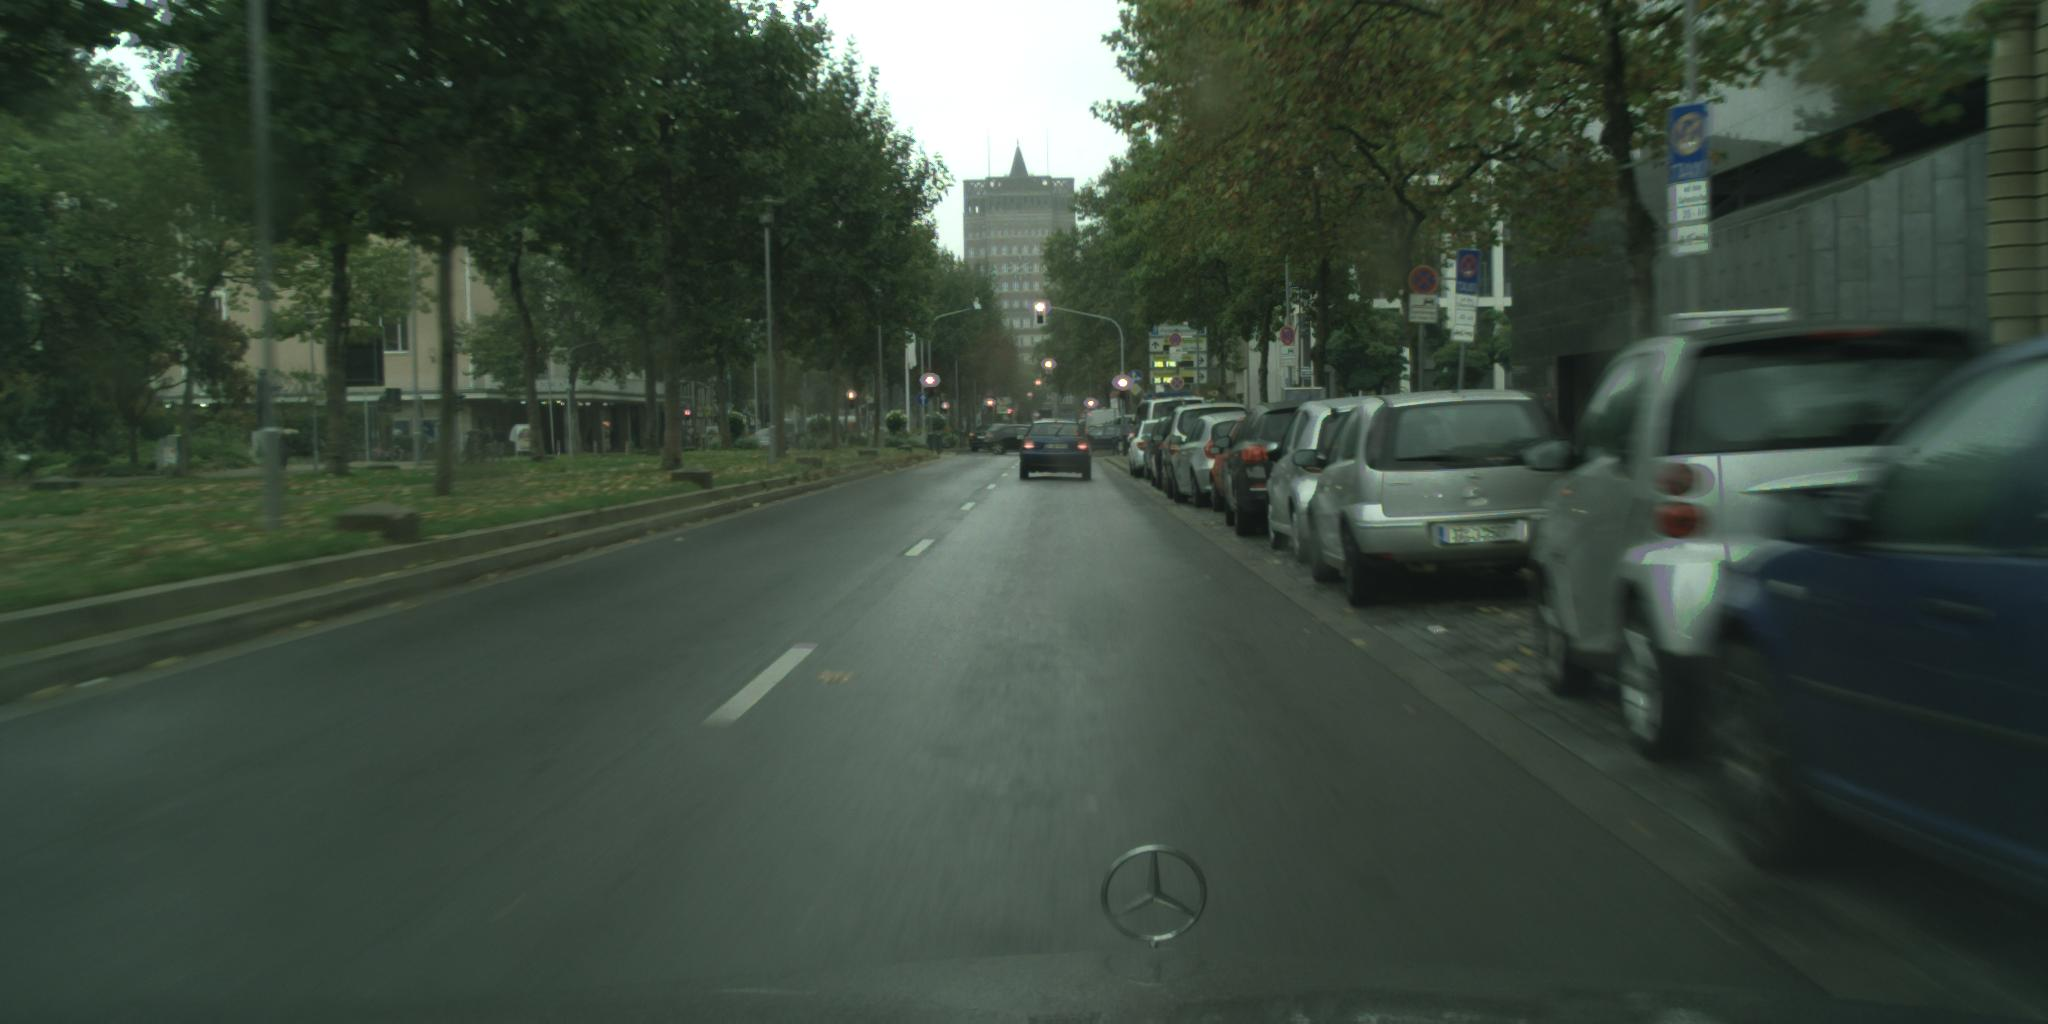car: (1518, 320, 2001, 764), (1701, 337, 2048, 906), (1293, 391, 1578, 610), (1267, 396, 1401, 567), (1213, 401, 1331, 537), (1155, 404, 1250, 499), (1172, 411, 1254, 509), (1017, 421, 1096, 482), (1209, 417, 1255, 513), (1127, 392, 1209, 445), (1143, 415, 1179, 491), (1130, 419, 1164, 479), (1081, 426, 1142, 455), (985, 424, 1040, 456), (1085, 409, 1131, 441), (970, 424, 1014, 453), (1078, 419, 1100, 443)
